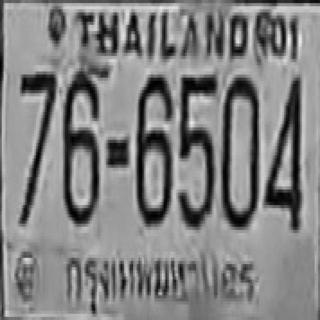N00: (220, 75, 258, 227)
N04: (263, 73, 301, 228)
N05: (178, 70, 216, 225)
N06: (61, 67, 102, 222), (135, 71, 171, 224)
N07: (17, 68, 55, 224)
P04: (64, 247, 266, 319)
